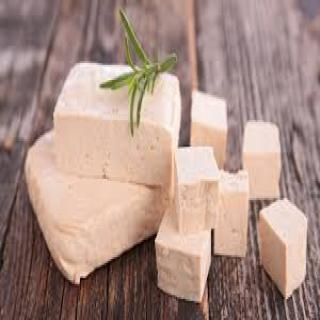Tahu: (16, 45, 314, 314)
